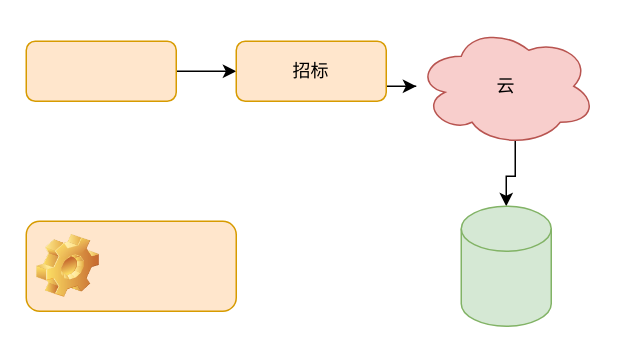
Image size: 623x353. Some labels were removed from this diagram. The shapes that lost their labels are listed below. From the top down, each one's centre as x and y in pixels, then its label:
pixel 100 70: 测试
pixel 130 265: Label
